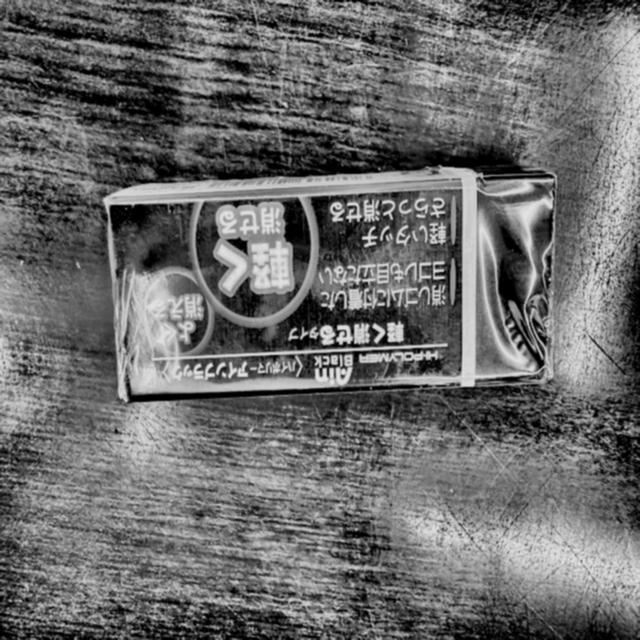eraser: (99, 160, 561, 407)
